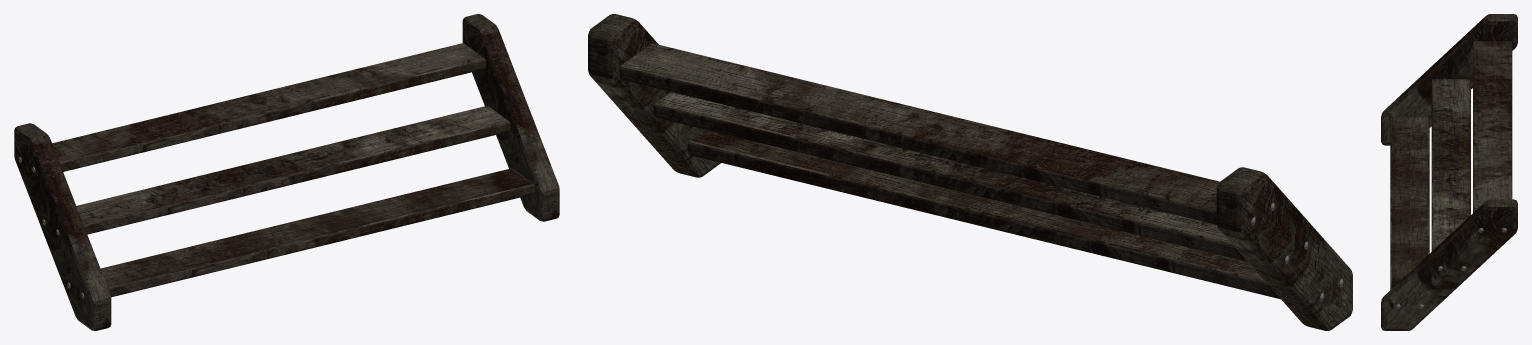
File: DockStairs.fbx
3 views of the same model, side by side, from view 1: azimuth 30°, elevation 25°; view 2: azimuth 150°, elevation 25°; view 3: azimuth 270°, elevation 25° (orthographic). The views are drawn at different scales.
Visible parts, largest first — view 1: Dock Stairs; view 2: Dock Stairs; view 3: Dock Stairs.
Part boxes in pixels (<box>): Dock Stairs: <box>14,14,559,330</box>; Dock Stairs: <box>588,14,1352,330</box>; Dock Stairs: <box>1381,14,1517,330</box>.
Bounding box in the file's own units: 400 × 121 × 119.
